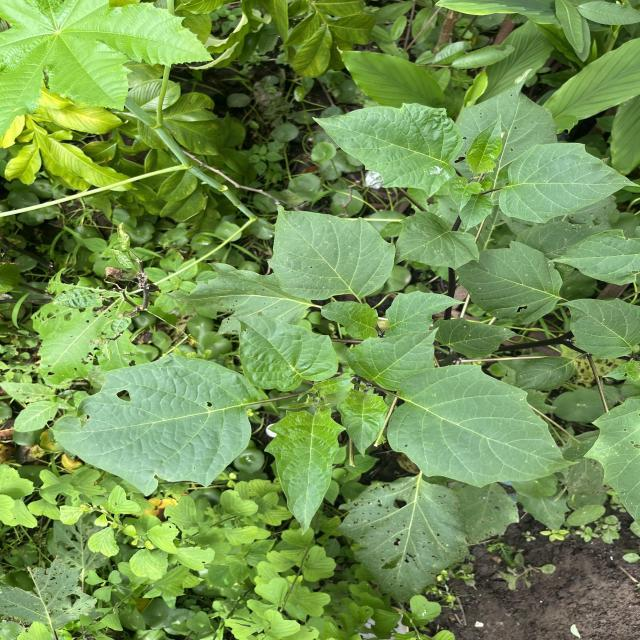Datura metal linn: (44, 350, 265, 500), (386, 364, 582, 489), (309, 101, 466, 199), (266, 203, 397, 302), (497, 142, 640, 225), (262, 406, 348, 536), (393, 210, 481, 272), (555, 296, 640, 360)
